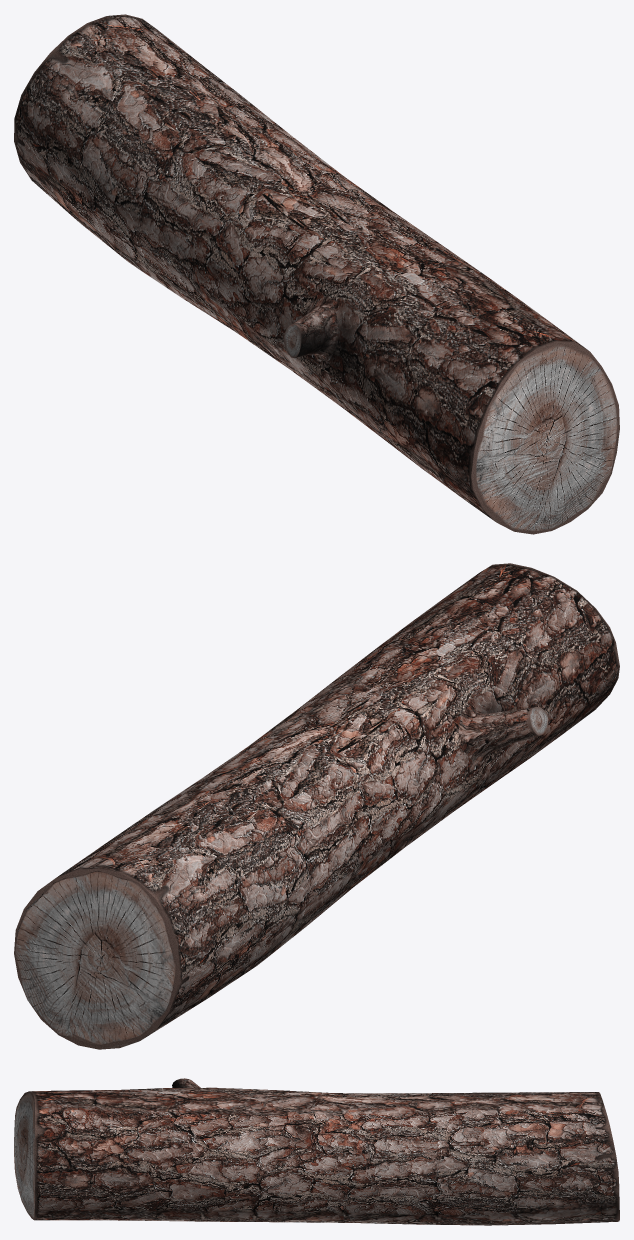
Rendered from tronco.glb.
The picture shows the model from 3 angles, top to bottom: view 1: azimuth 30°, elevation 25°; view 2: azimuth 150°, elevation 25°; view 3: azimuth 270°, elevation 25°; orthographic projection. The views are drawn at different scales.
Visible parts, largest first — view 1: low_poly_log; view 2: low_poly_log; view 3: low_poly_log.
Boxes of the visible parts, x1,y1,x2,y2 form: low_poly_log: (14,14,619,534); low_poly_log: (14,563,619,1049); low_poly_log: (14,1078,619,1225).
Size of the model in its own units: 0.6349 by 0.513 by 2.33.
1 material, 1 textured.
